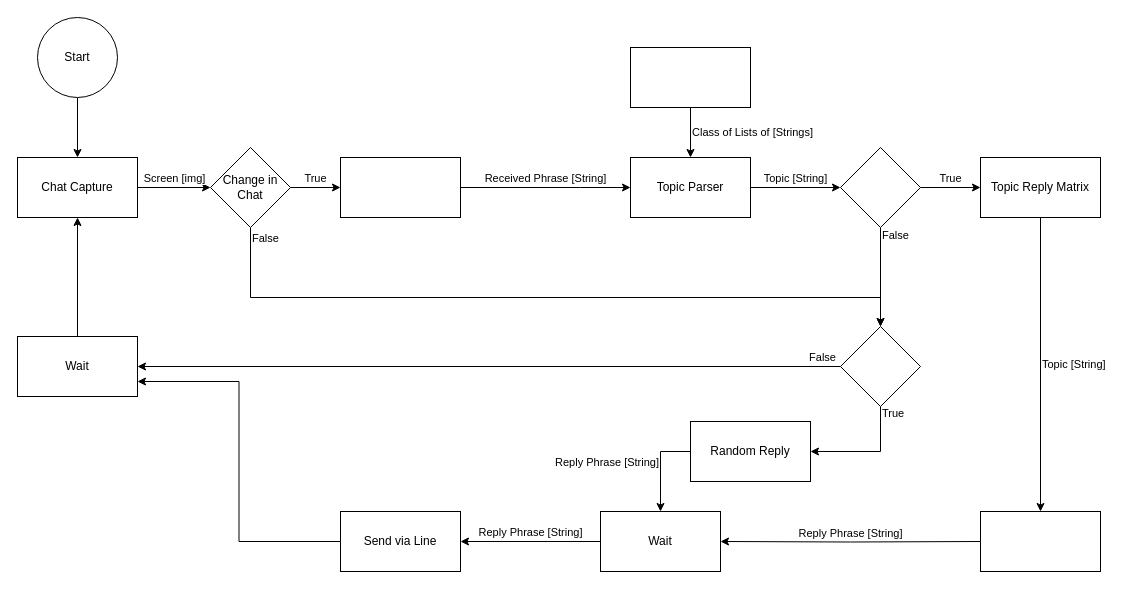
Image size: 1124x589. Some labels were removed from this diagram. The centre of each missing label's shape, as x and y in pixels:
"Do Reply (Random)" goes at (x=880, y=366).
"Get Reply" goes at (x=1040, y=541).
"Key Word Database" goes at (x=690, y=77).
"OCR Phrase" goes at (x=400, y=187).
"Received Topic" goes at (x=880, y=187).
